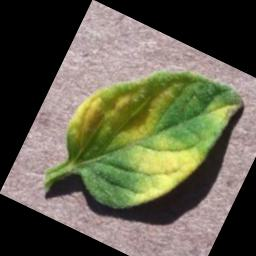Leaf_Mold: (60, 45, 180, 173), (109, 122, 208, 227), (206, 93, 242, 125)
